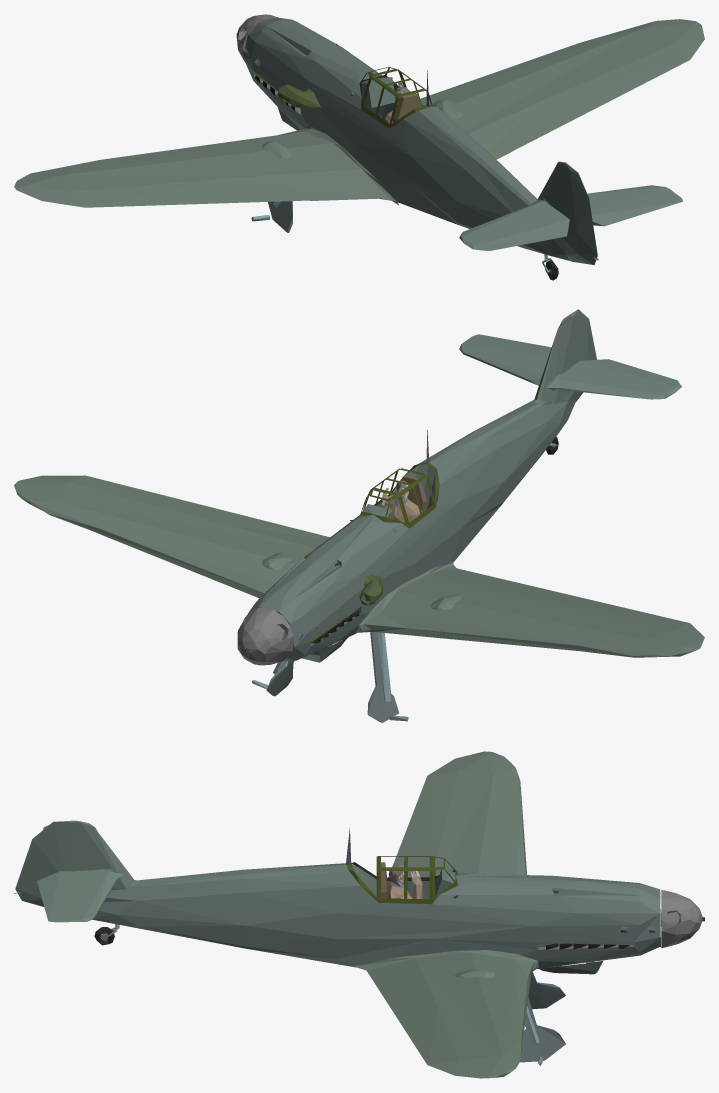
The picture shows the model from 3 angles, top to bottom: view 1: azimuth 30°, elevation 25°; view 2: azimuth 150°, elevation 25°; view 3: azimuth 270°, elevation 25°; orthographic projection.
Visible parts, largest first — view 1: body; view 2: body; view 3: body.
Boxes of the visible parts, x1,y1,x2,y2 form: body: [14, 14, 704, 280]; body: [14, 309, 704, 722]; body: [14, 751, 704, 1078].
Size of the model in its own units: 10.02 by 3.08 by 8.95.
